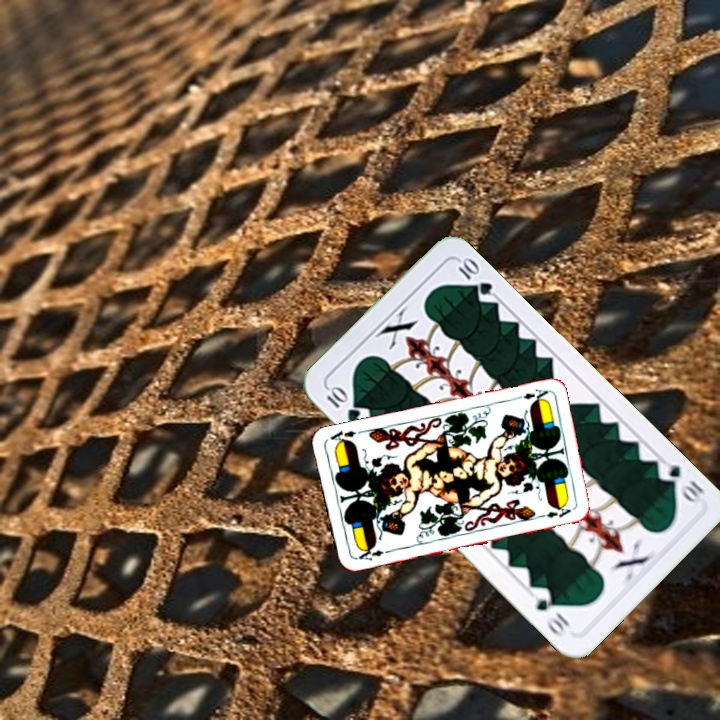EA: (352, 543, 392, 563), (510, 385, 550, 404)
G10: (653, 456, 707, 507), (322, 382, 363, 425)
